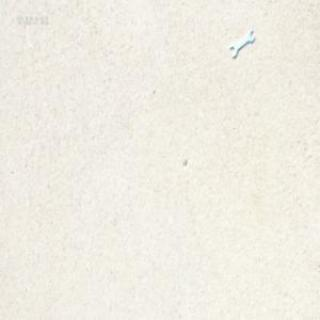Wrenchtrack_idkeyframe: (225, 30, 252, 60)
